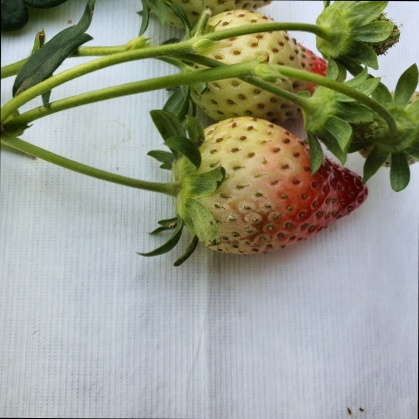Powdery_Fruit: (188, 116, 369, 254)
